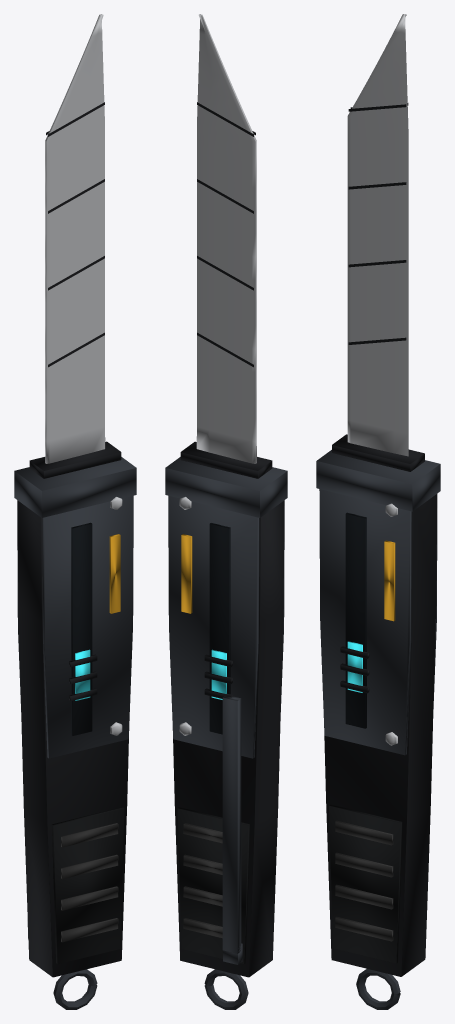
The model's file is gear_neon_boxknife.glb.
3 renders of one model, left to right at view 1: azimuth 30°, elevation 25°; view 2: azimuth 150°, elevation 25°; view 3: azimuth 330°, elevation 25°, orthographic.
Parts seen in each view (by area): view 1: gear_neon_boxknife; view 2: gear_neon_boxknife; view 3: gear_neon_boxknife.
Part boxes in pixels (box(x1,y1,x2,y2)): gear_neon_boxknife: box(14, 14, 136, 1009); gear_neon_boxknife: box(165, 14, 287, 1009); gear_neon_boxknife: box(316, 14, 440, 1009).
Bounding box in the file's own units: 0.044 × 0.4376 × 0.0278.
